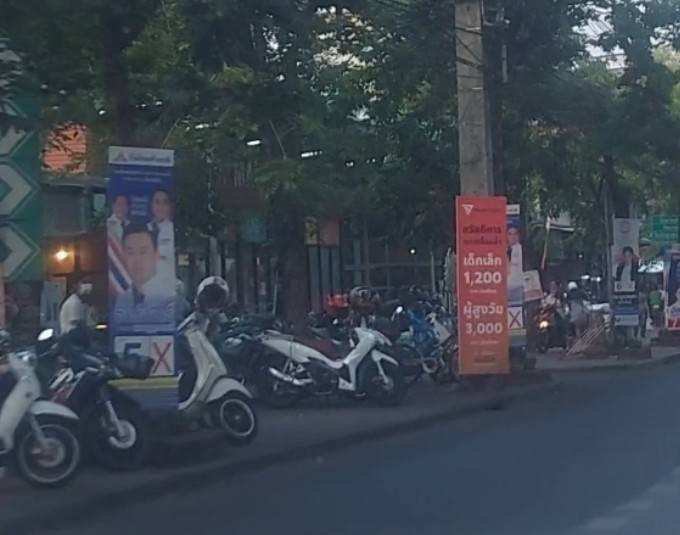Banner: (108, 147, 177, 406), (456, 197, 505, 374), (613, 219, 637, 326)
